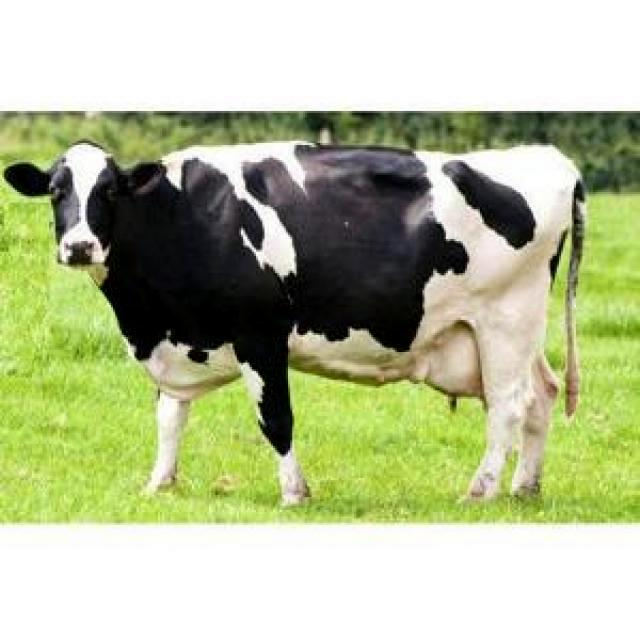COW: (5, 142, 585, 504)
